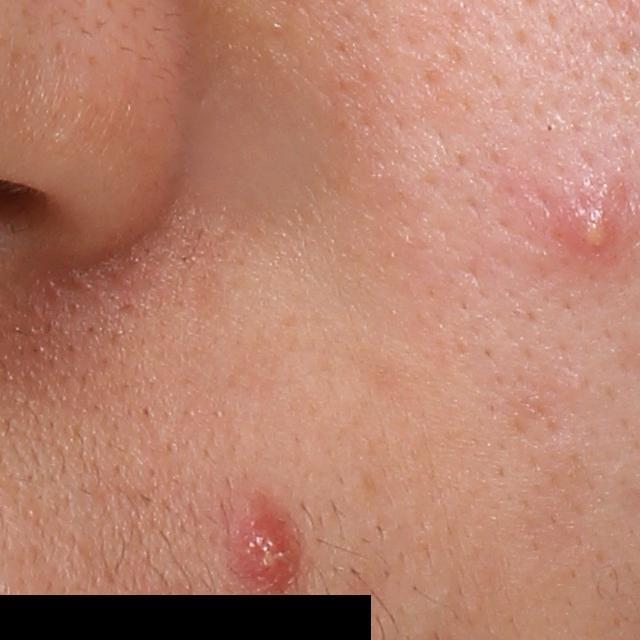papule: (246, 509, 290, 602)
pustule: (569, 194, 625, 260)
